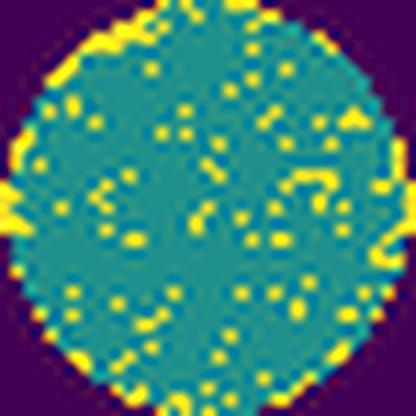Edge-Loc: (45, 0, 177, 95), (360, 130, 415, 274), (0, 175, 40, 240)
